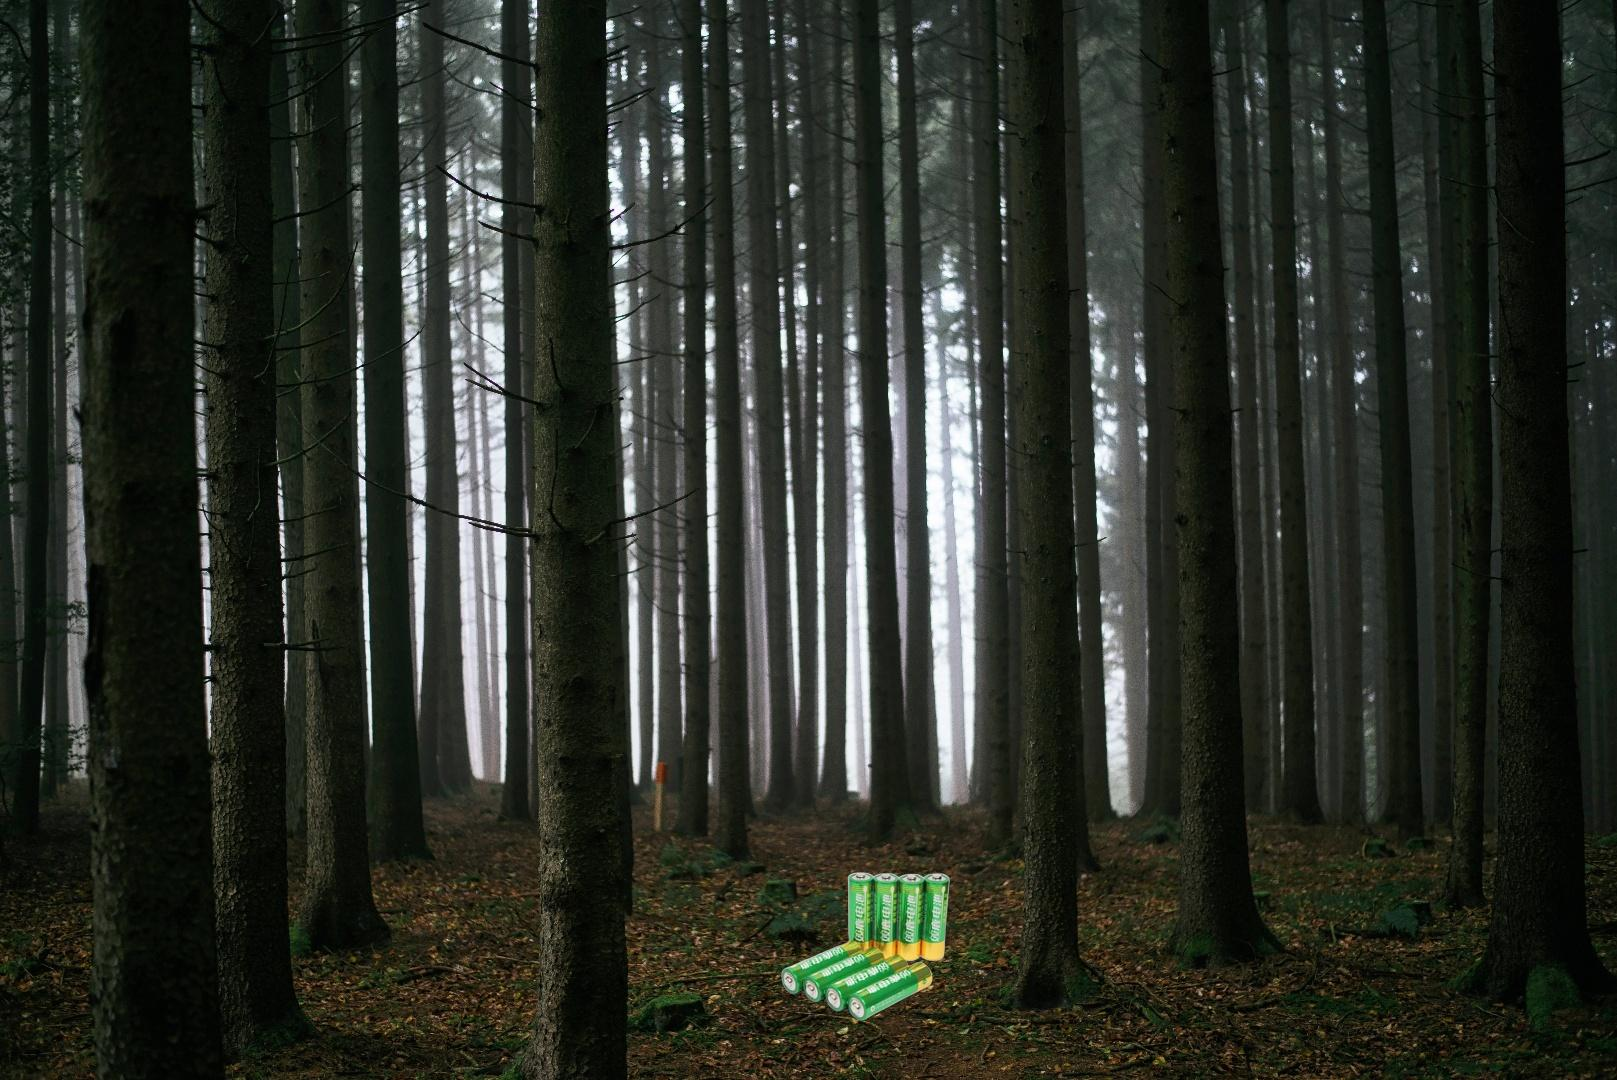battery: (778, 869, 953, 1025)
